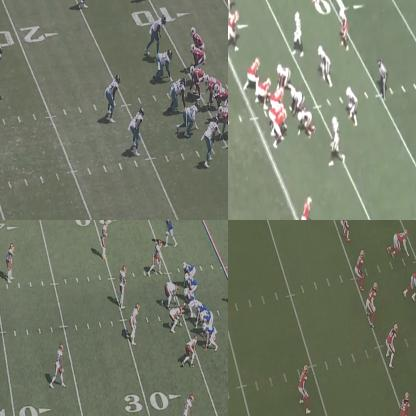CENTER: (270, 86, 286, 108), (189, 65, 202, 90), (182, 290, 192, 314)
DB: (387, 324, 398, 370), (53, 344, 64, 388), (298, 364, 309, 407), (338, 7, 348, 49), (100, 220, 110, 259), (6, 242, 14, 280), (399, 393, 412, 415), (0, 41, 4, 100), (183, 395, 194, 415), (78, 0, 92, 8)
LB: (130, 108, 146, 155), (106, 75, 119, 121), (148, 16, 166, 48), (344, 86, 358, 124), (206, 117, 218, 160), (356, 247, 366, 292), (320, 47, 332, 84), (369, 282, 379, 326), (293, 9, 302, 54), (129, 305, 139, 345), (118, 266, 126, 308), (342, 220, 351, 243)
SKILL: (228, 9, 241, 48), (217, 105, 227, 136), (164, 220, 176, 245), (299, 196, 312, 219), (183, 262, 199, 278)
